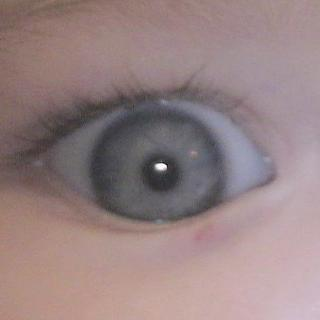pupil: (142, 157, 179, 193)
